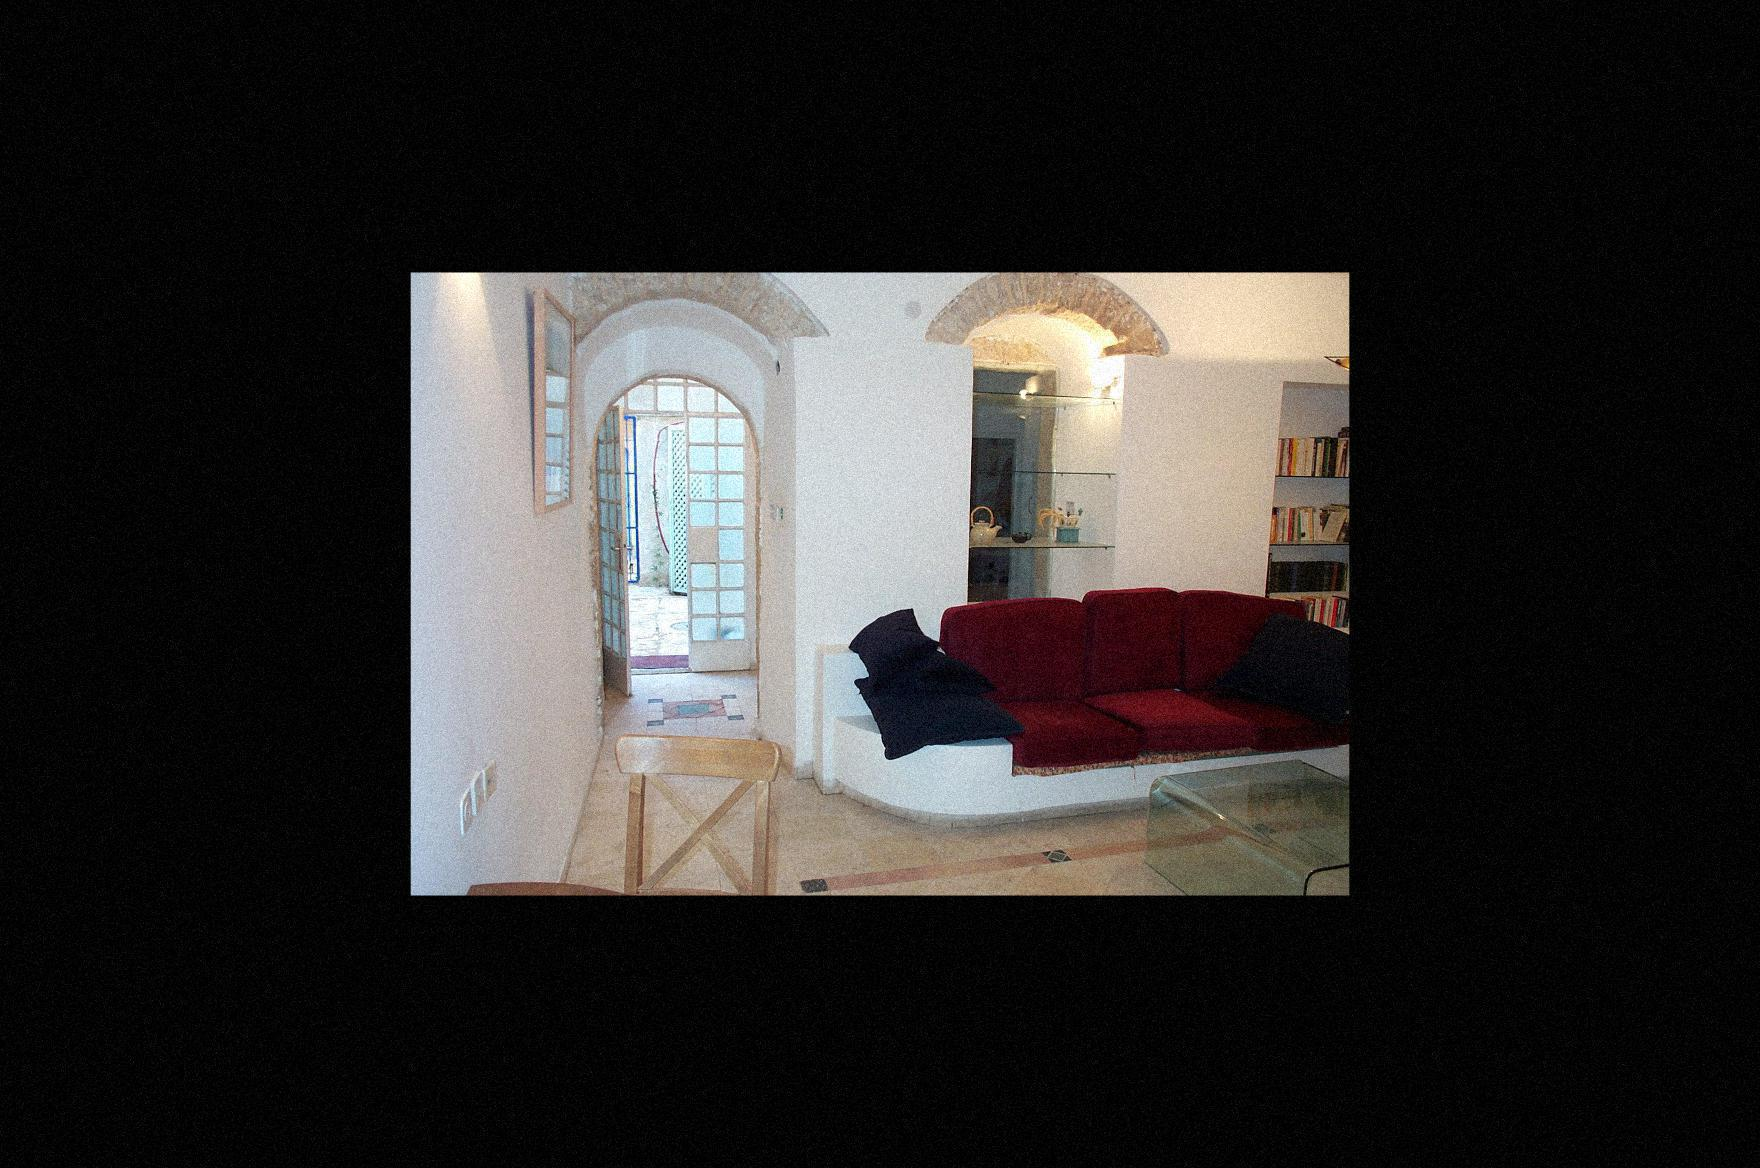Puerta: (594, 407, 754, 699)
